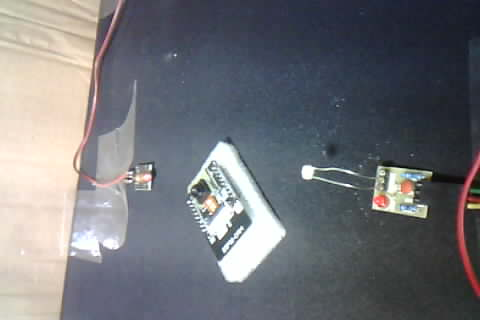esp32: (181, 145, 271, 274)
